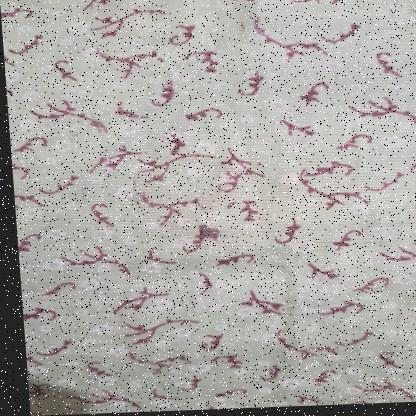spot: (192, 223, 222, 244), (276, 224, 298, 234)
